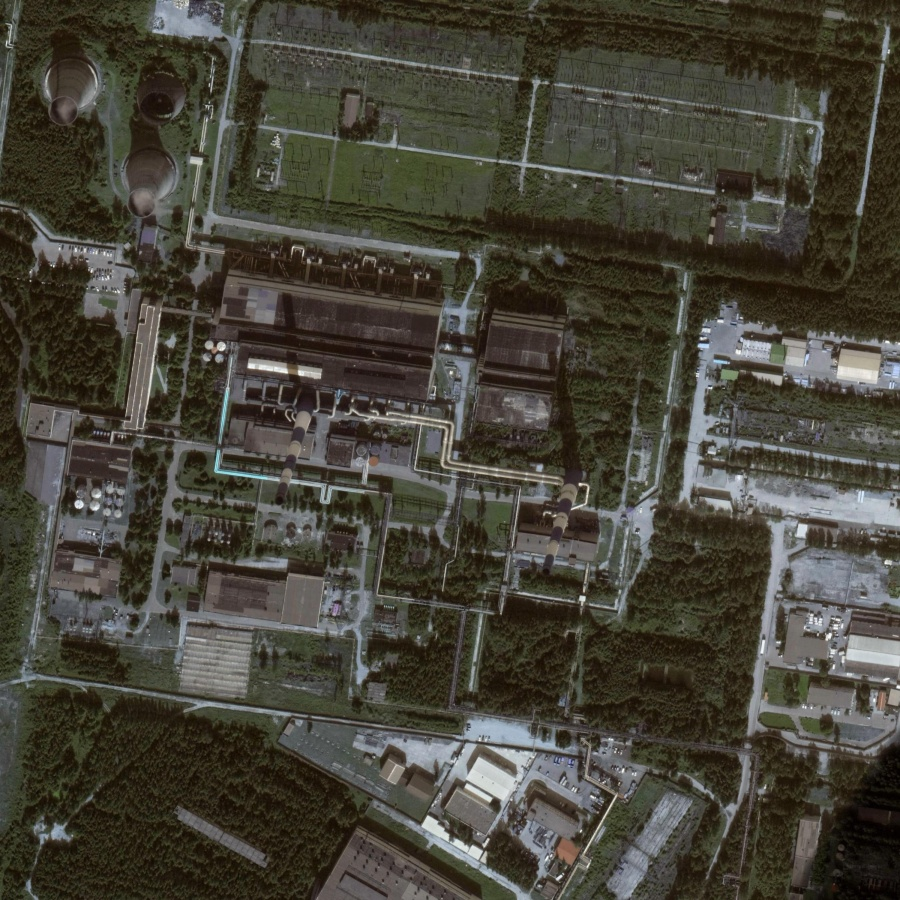PowerPlant: (228, 272, 586, 592)
